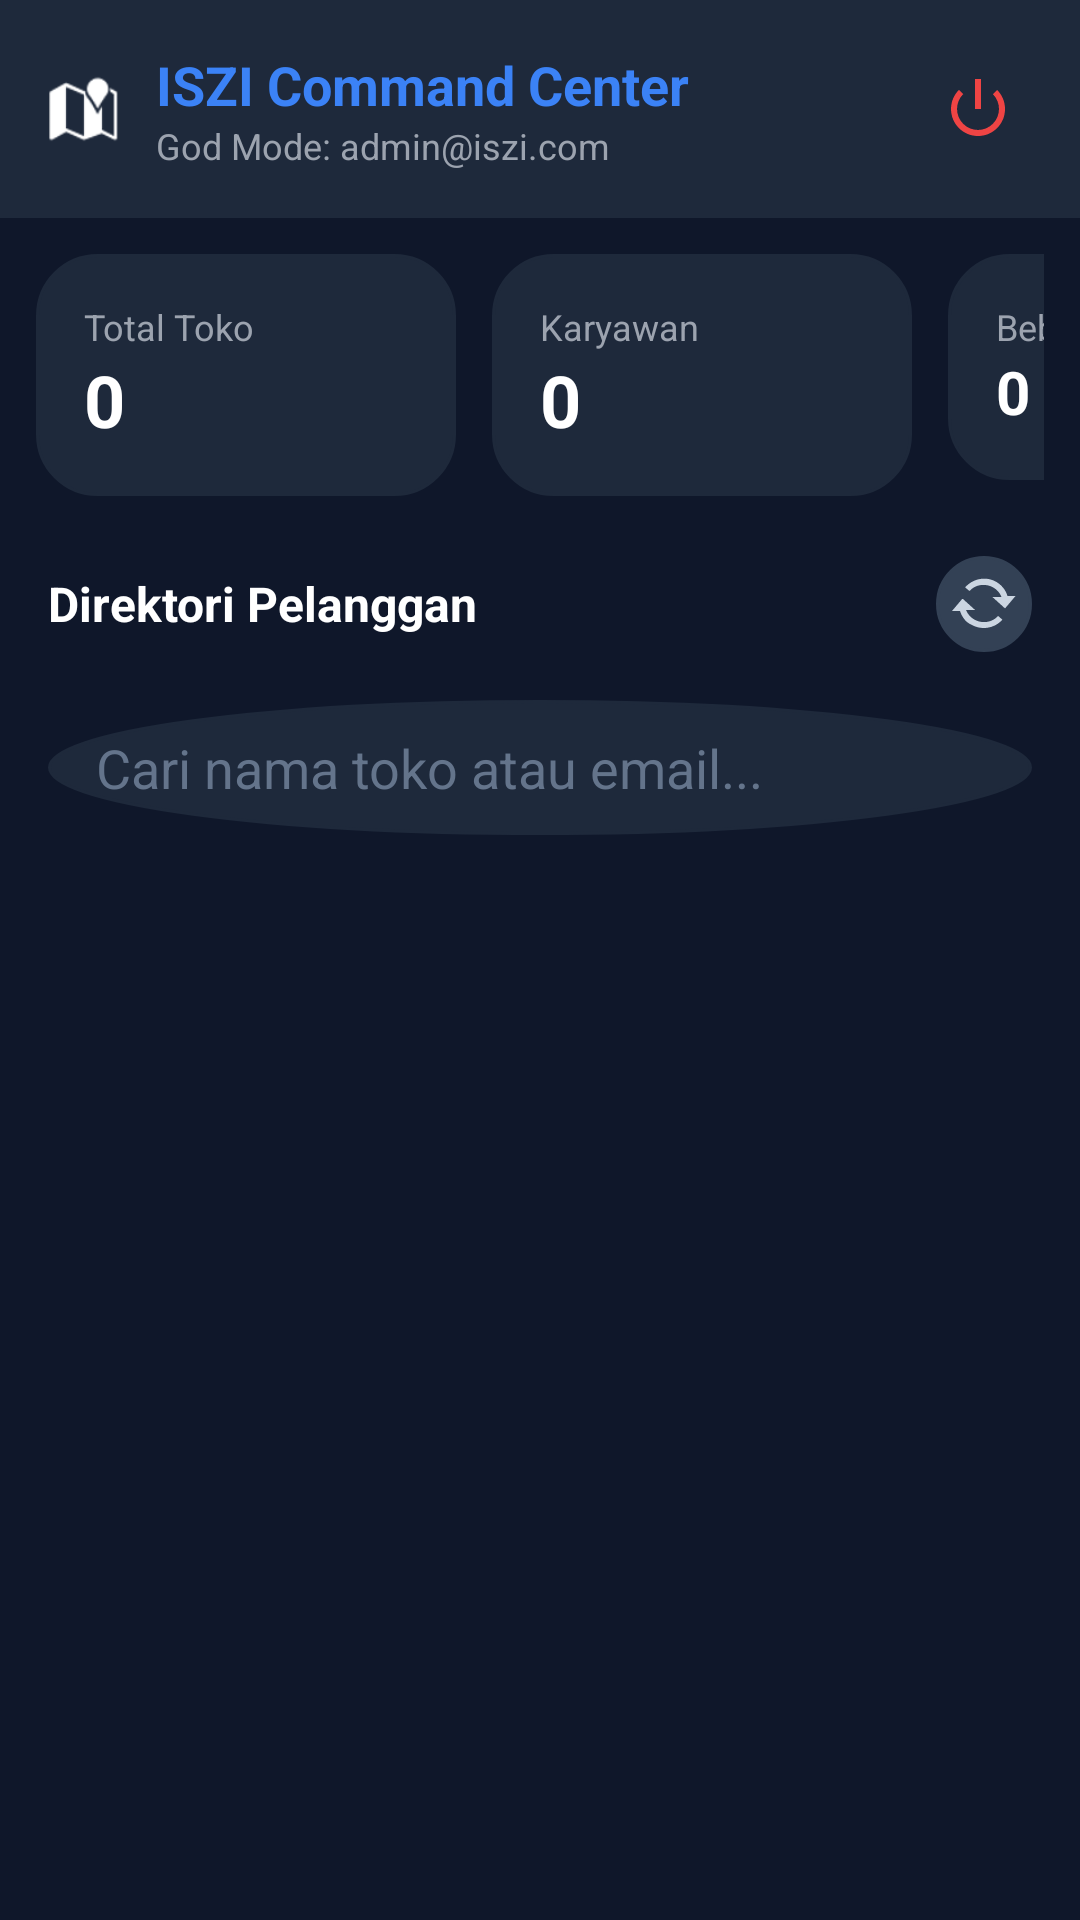

Where icons sit on this 1080px×1920px app screen, as BBox(x1, y1, x2, y2):
lock power off: BBox(951, 79, 1005, 136)
map: BBox(49, 77, 118, 141)
sync: BBox(936, 556, 1032, 652)
